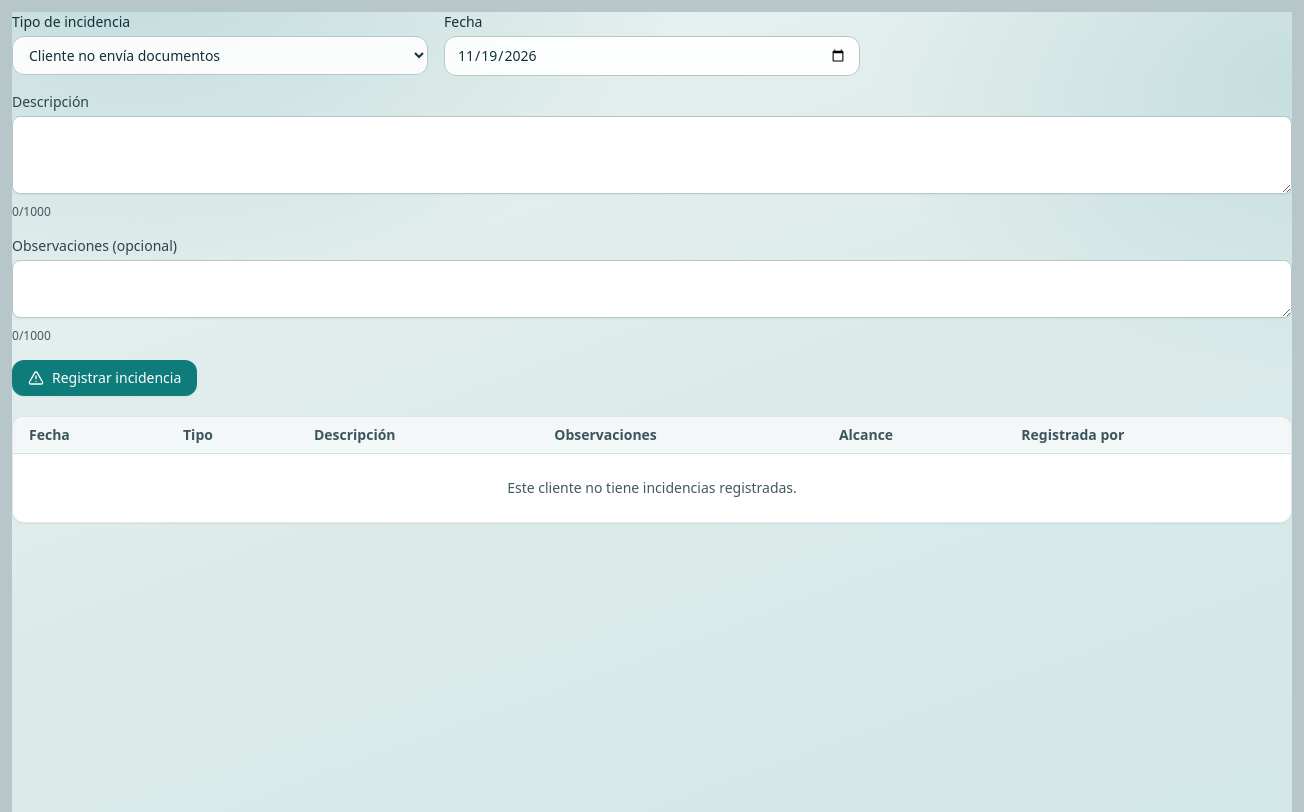
Incidencias del servicio en la ficha (HU-23) › las observaciones admiten hasta 1000 caracteres y muestran cuántos lleva
Expected: the text "Este cliente no tiene incidencias registradas." is shown, [13,454,1291,522]
In the text box labelled "Observaciones (opcional)": x=652, y=289 [12,260,1292,318], type "abcde"
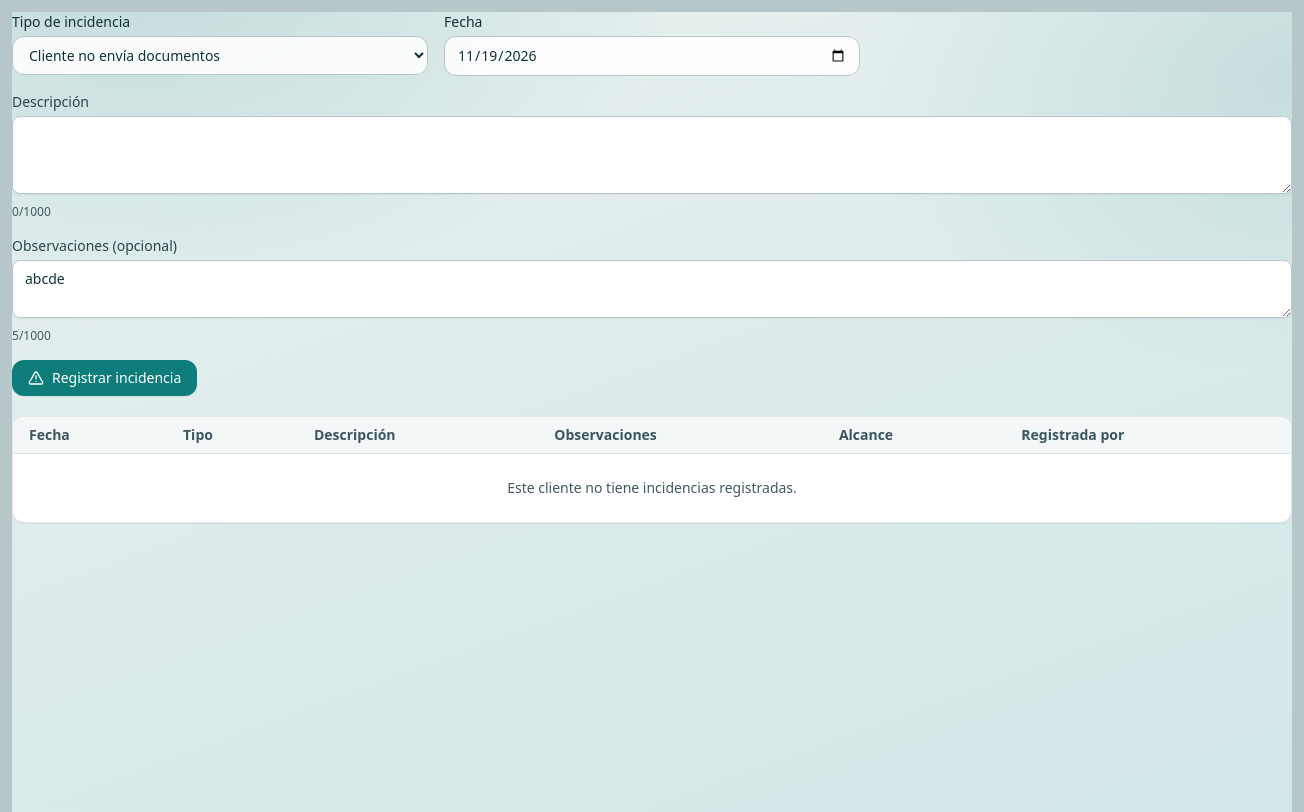
Result: the text "5/1000" is shown at [12,327,51,344]
